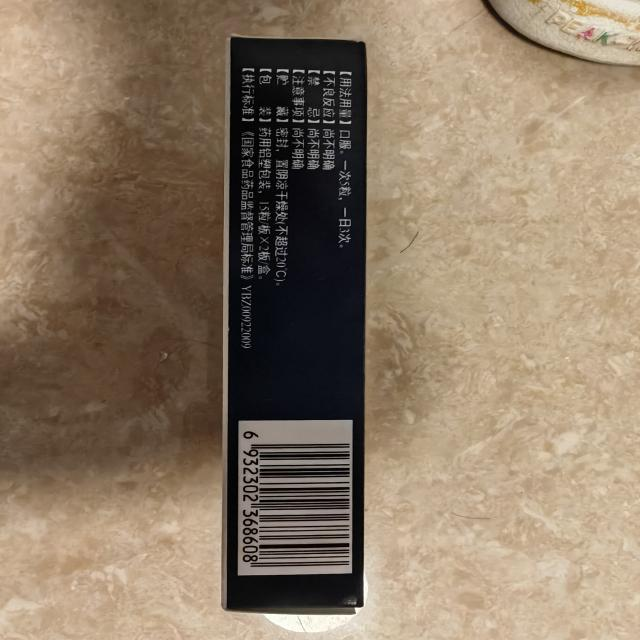box: (214, 27, 379, 628)
